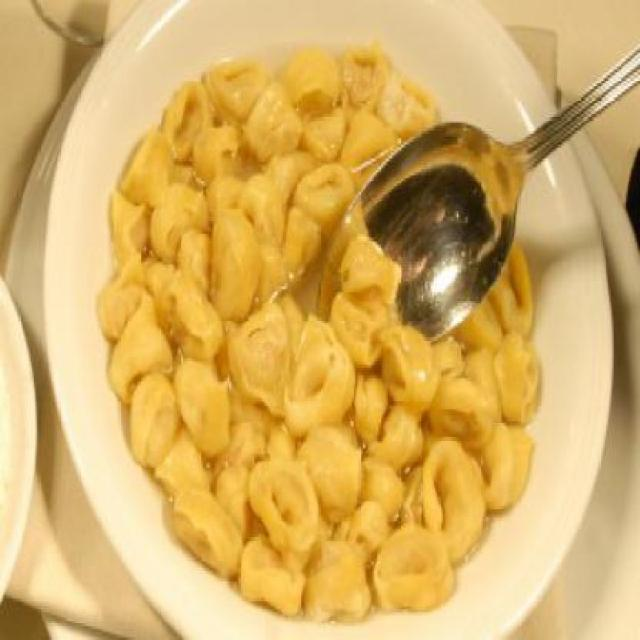Tortellini in broth: (132, 116, 292, 412)
